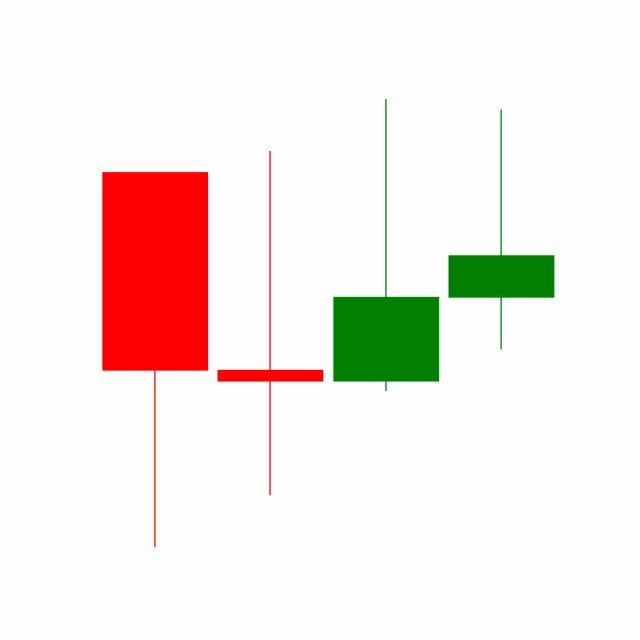Gravestone Doji: (444, 108, 560, 353)
